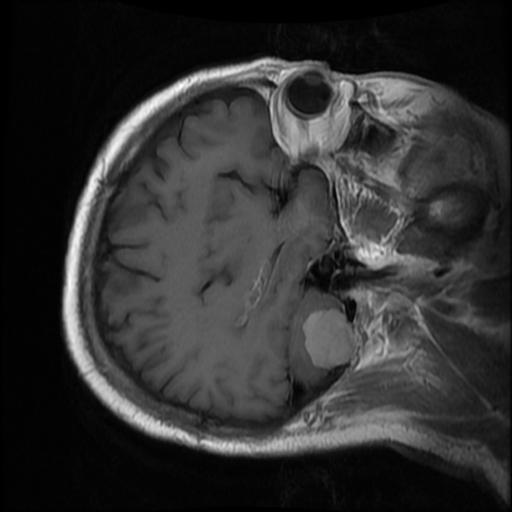meningioma: (301, 308, 358, 369)
